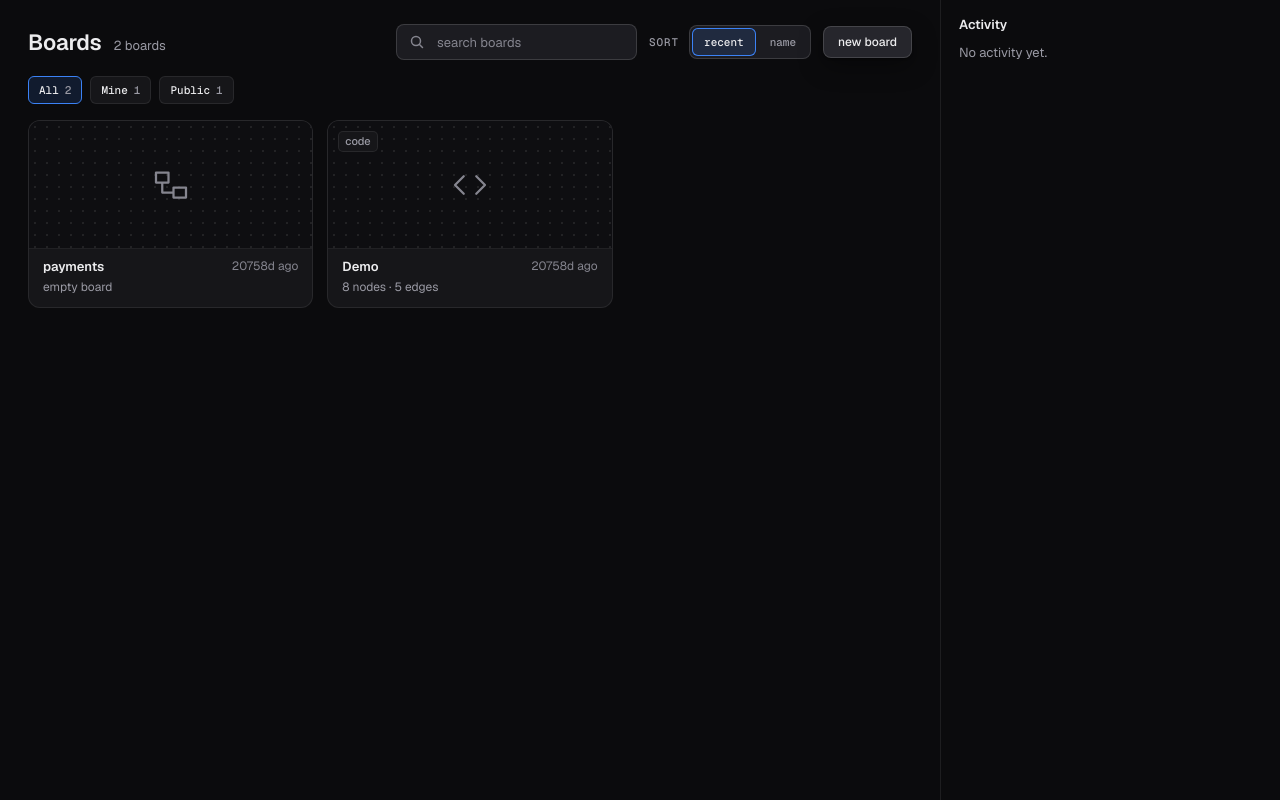
Test: dashboard page › times out and cleans up when creation commits but its request row never arrives
Click the button "new board" at (868, 42), box [823,26,912,58]
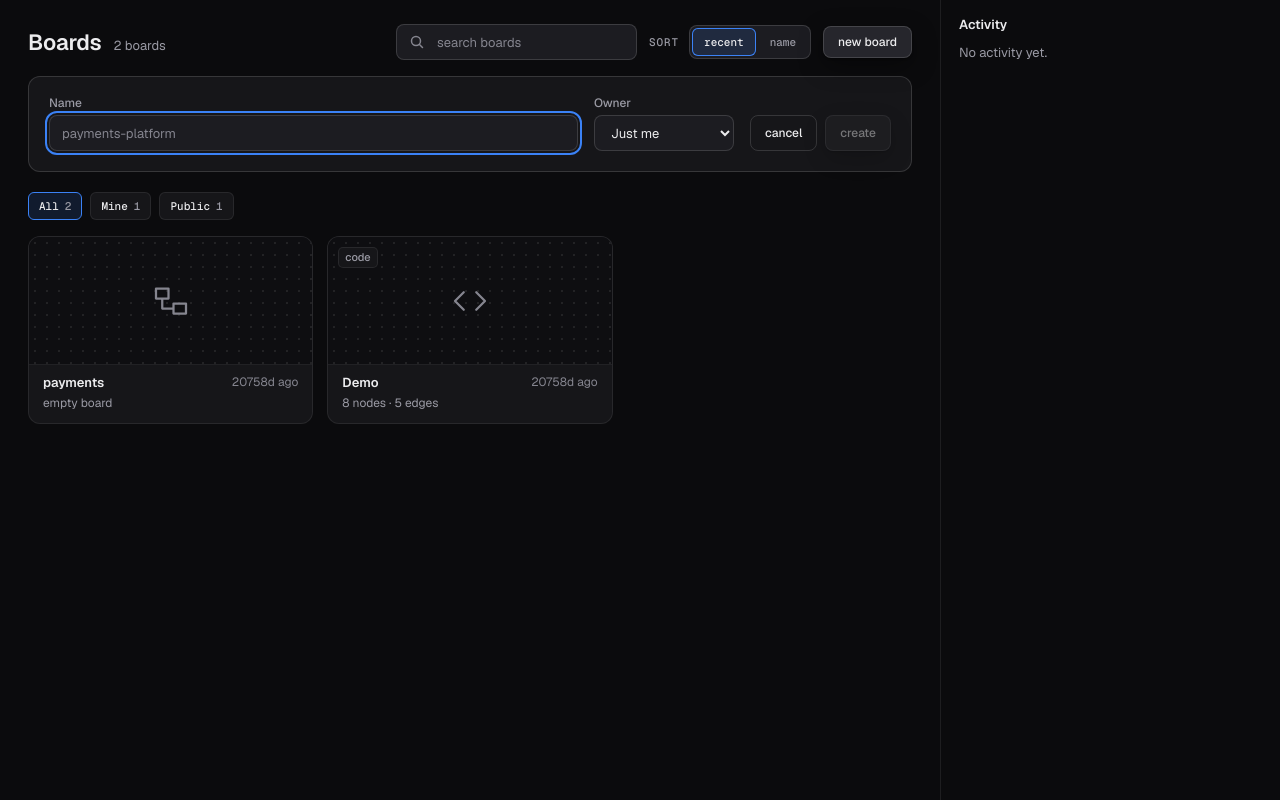
Type "fresh" into the field labelled "Name" at (314, 133), box [49,115,578,151]
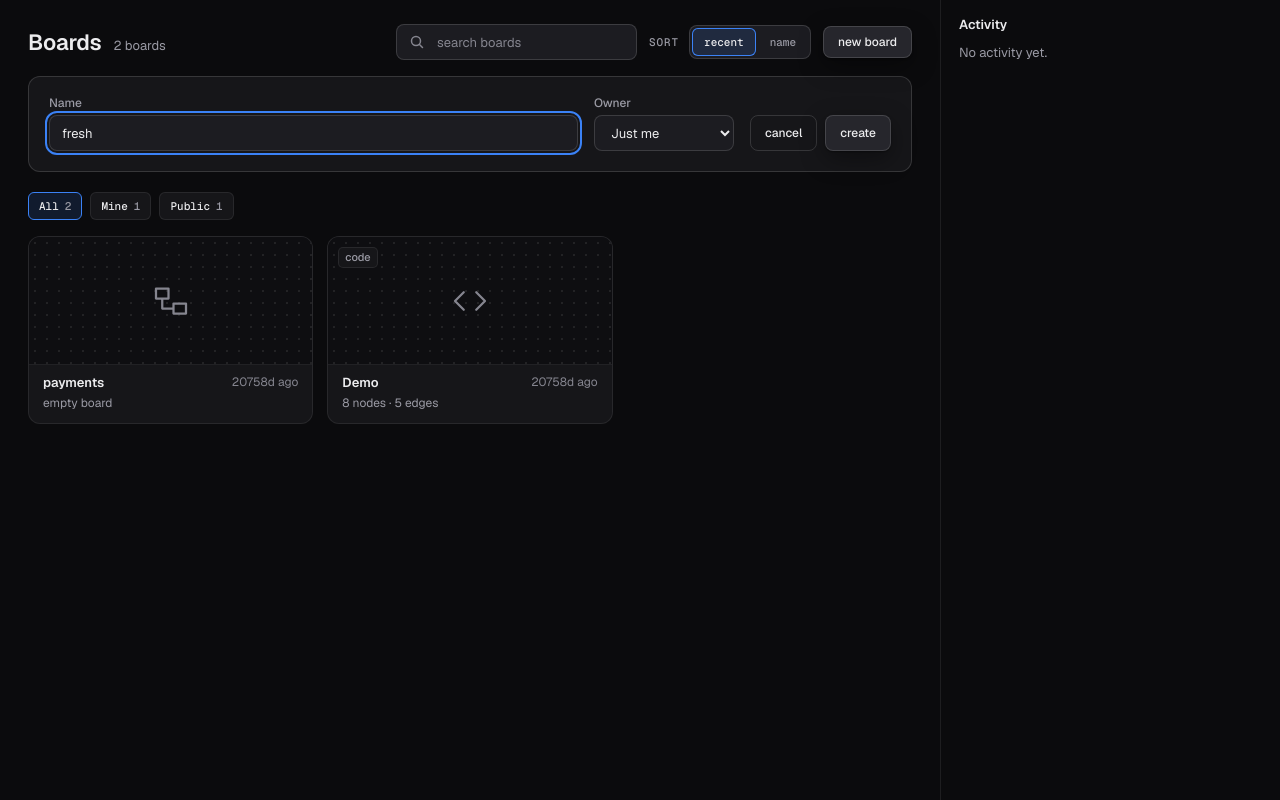
Submit the form named "New board", box [28,76,912,172]
Wait 15000 ms
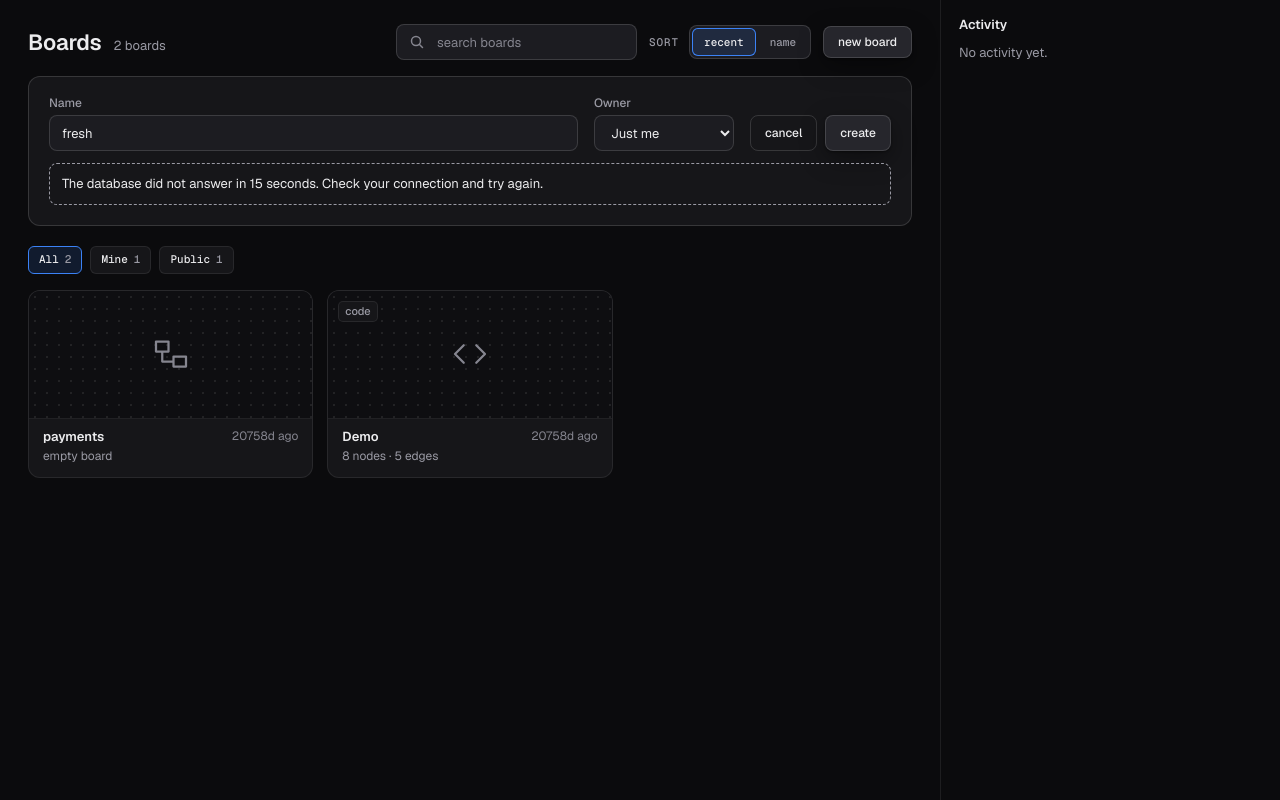
expect the message shows "The database did not answer in 15 seconds.": met, box [62,175,543,192]
